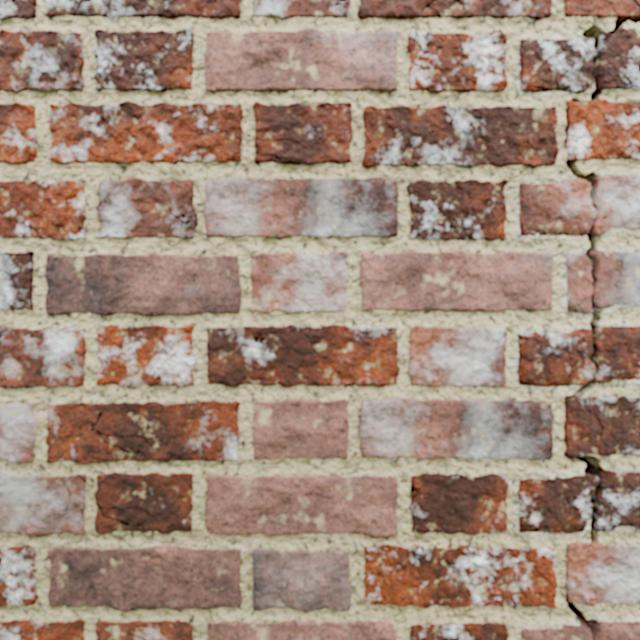broken_brick: (518, 470, 639, 533), (519, 176, 639, 235), (518, 328, 595, 386), (519, 34, 595, 91), (591, 251, 639, 308), (599, 28, 639, 88), (597, 326, 639, 382), (566, 255, 592, 312), (521, 624, 591, 639), (595, 621, 639, 639)
crack: (564, 225, 639, 481), (564, 24, 639, 208), (47, 545, 242, 611), (362, 104, 558, 168), (204, 28, 397, 92), (364, 544, 557, 608), (48, 101, 243, 164), (46, 401, 240, 464), (45, 254, 241, 316), (359, 398, 553, 460), (206, 325, 399, 387), (205, 475, 397, 537), (204, 177, 398, 238), (565, 483, 639, 639), (360, 251, 552, 311), (407, 29, 507, 92), (252, 549, 351, 612), (253, 102, 352, 165), (94, 28, 193, 91), (96, 325, 195, 387), (407, 179, 507, 240), (410, 473, 508, 535), (96, 178, 197, 238), (94, 472, 192, 533), (250, 252, 347, 313), (409, 326, 506, 386), (253, 399, 348, 459), (0, 472, 86, 536), (0, 326, 86, 388), (0, 29, 84, 92), (0, 180, 86, 239), (357, 0, 551, 19), (208, 620, 396, 639), (45, 0, 240, 18), (564, 0, 639, 34), (0, 545, 38, 607), (0, 102, 37, 164), (0, 403, 36, 463), (0, 251, 33, 310), (95, 620, 193, 639), (253, 0, 350, 19), (0, 619, 84, 639), (410, 623, 508, 639), (0, 0, 36, 19), (566, 340, 581, 378), (568, 272, 569, 311)
